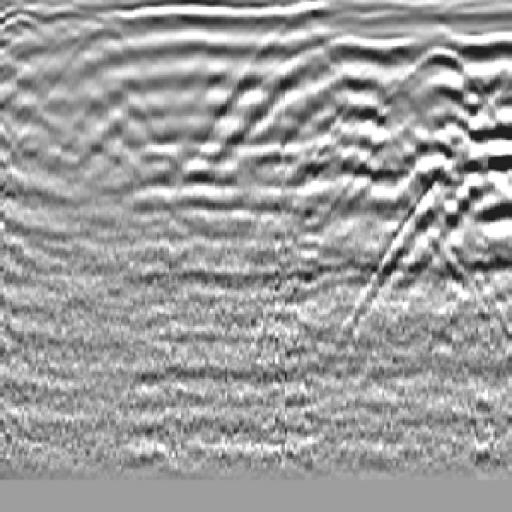non-metallic: (342, 25, 512, 259)
